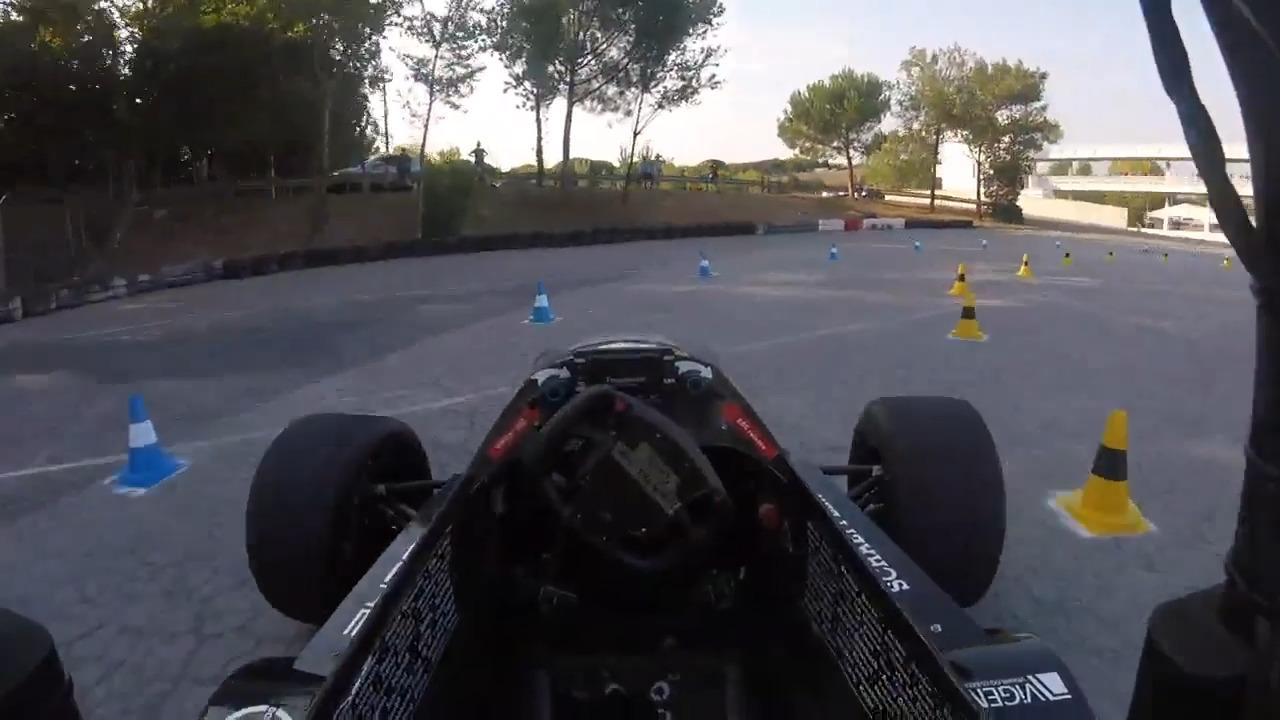blue_cone: (110, 392, 188, 488), (529, 282, 556, 324), (696, 251, 715, 280), (829, 243, 840, 261)
yellow_cone: (1063, 410, 1149, 538), (950, 292, 987, 341), (949, 262, 975, 300), (1017, 252, 1034, 280)
